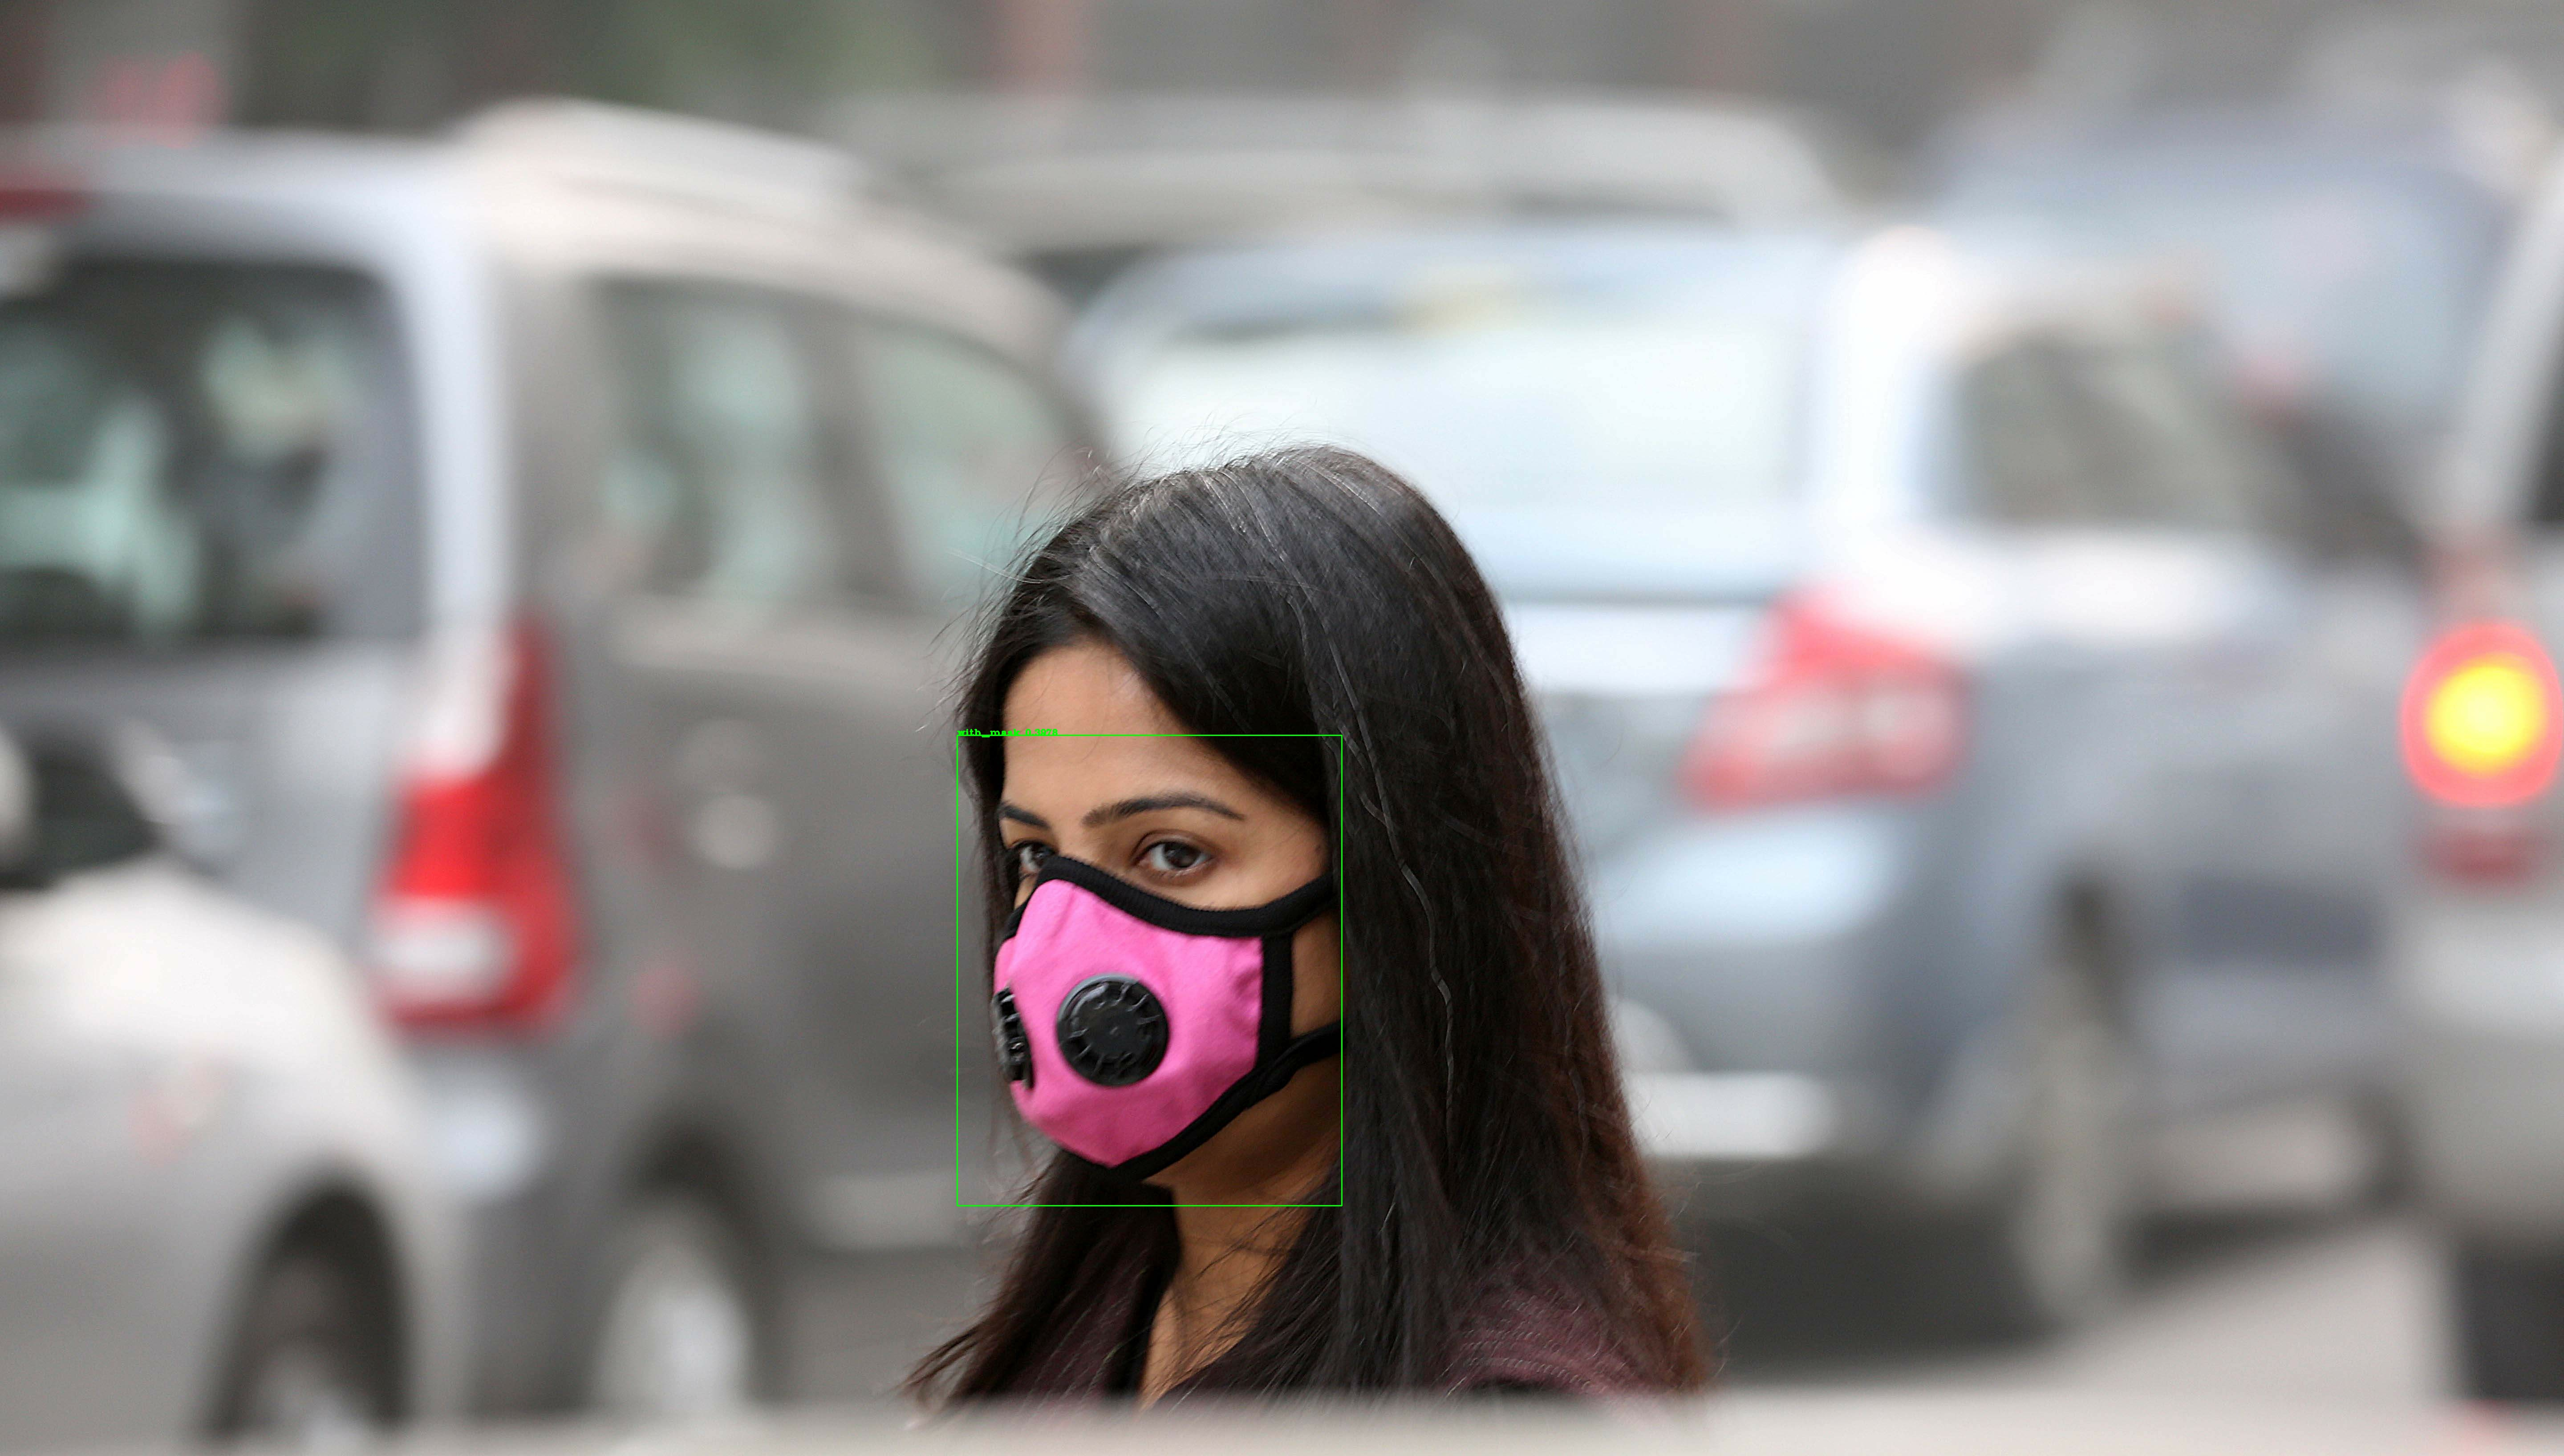with_mask: (929, 595, 1404, 1210)
